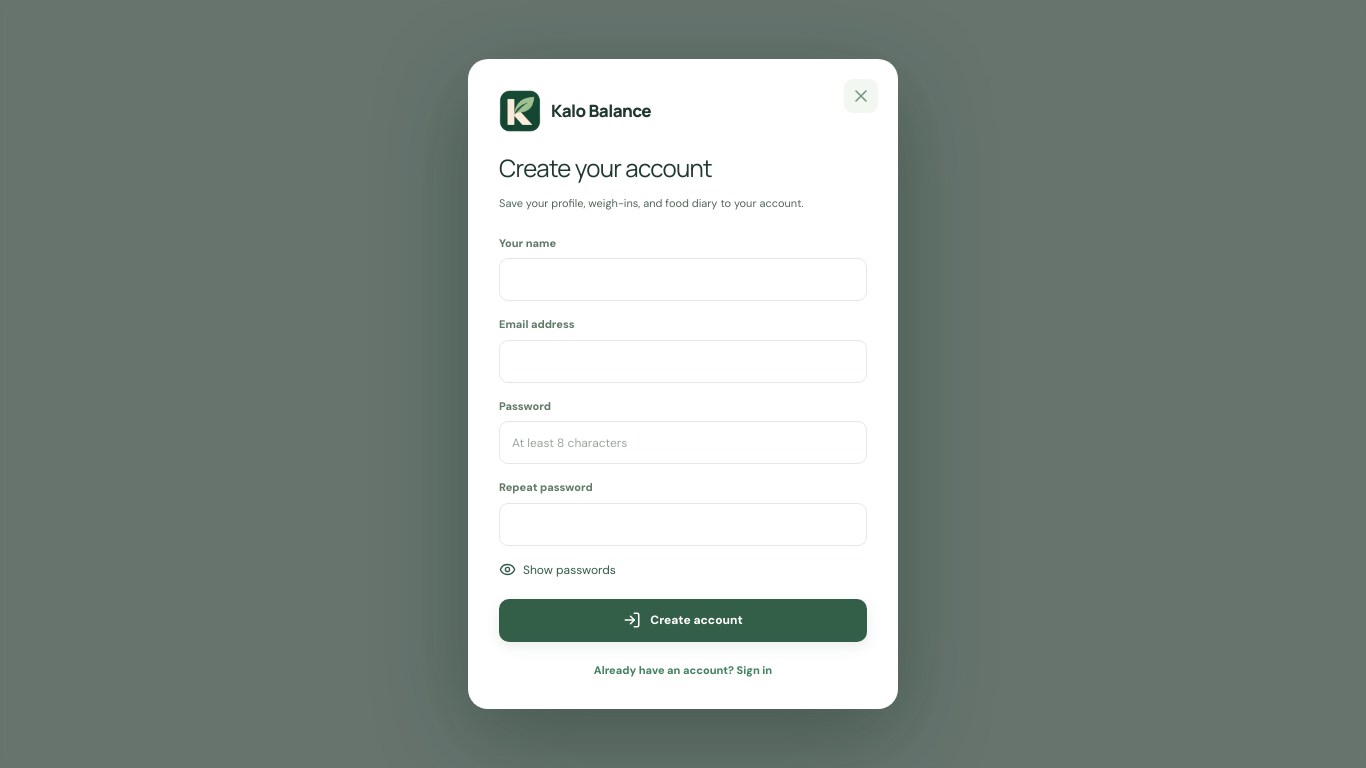
Existing authentication form › shows a translated mismatch and does not submit in en
This screenshot has width=1366, height=768.
Type "Test User" into the field labelled "Your name".
click(683, 280); type("Test User")  # box [499,258,867,301]
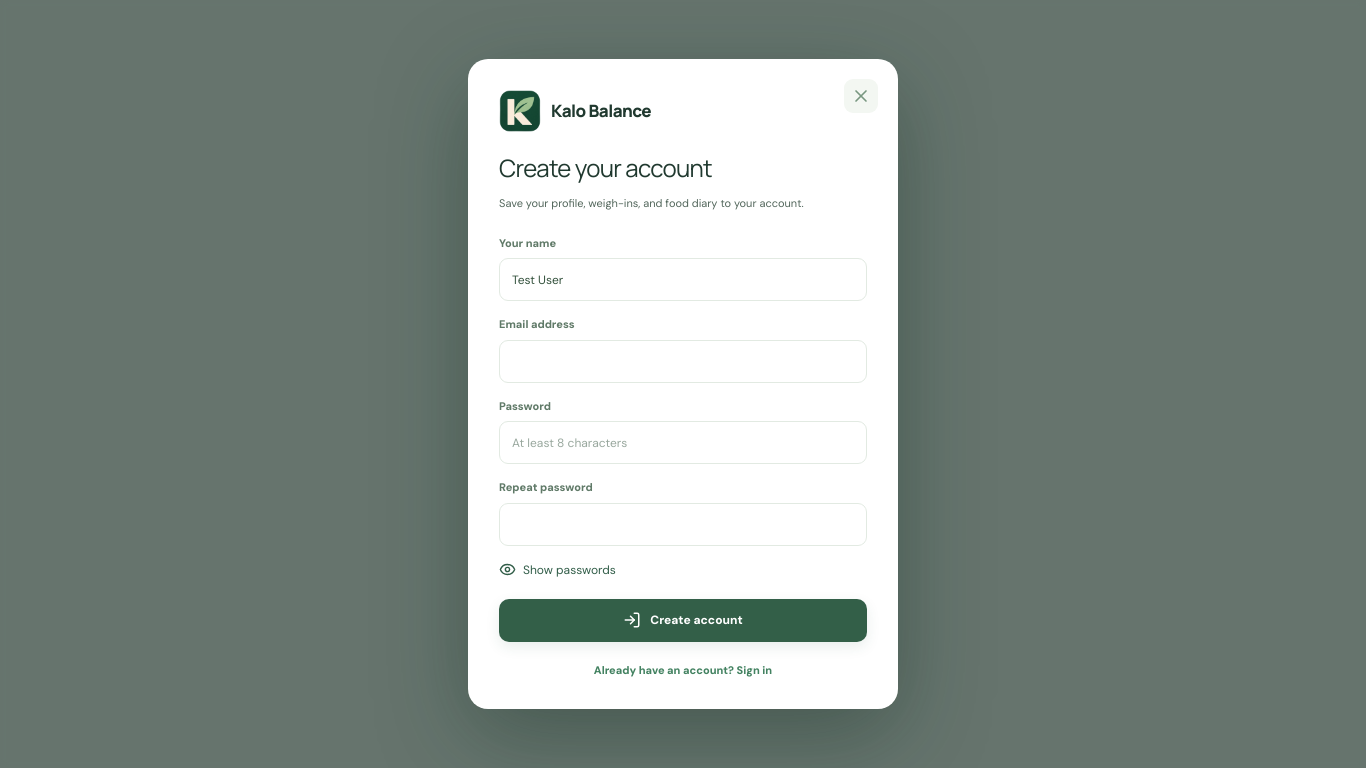
Type "user@example.test" into the field labelled "Email address".
click(683, 361); type("user@example.test")  # box [499,340,867,383]
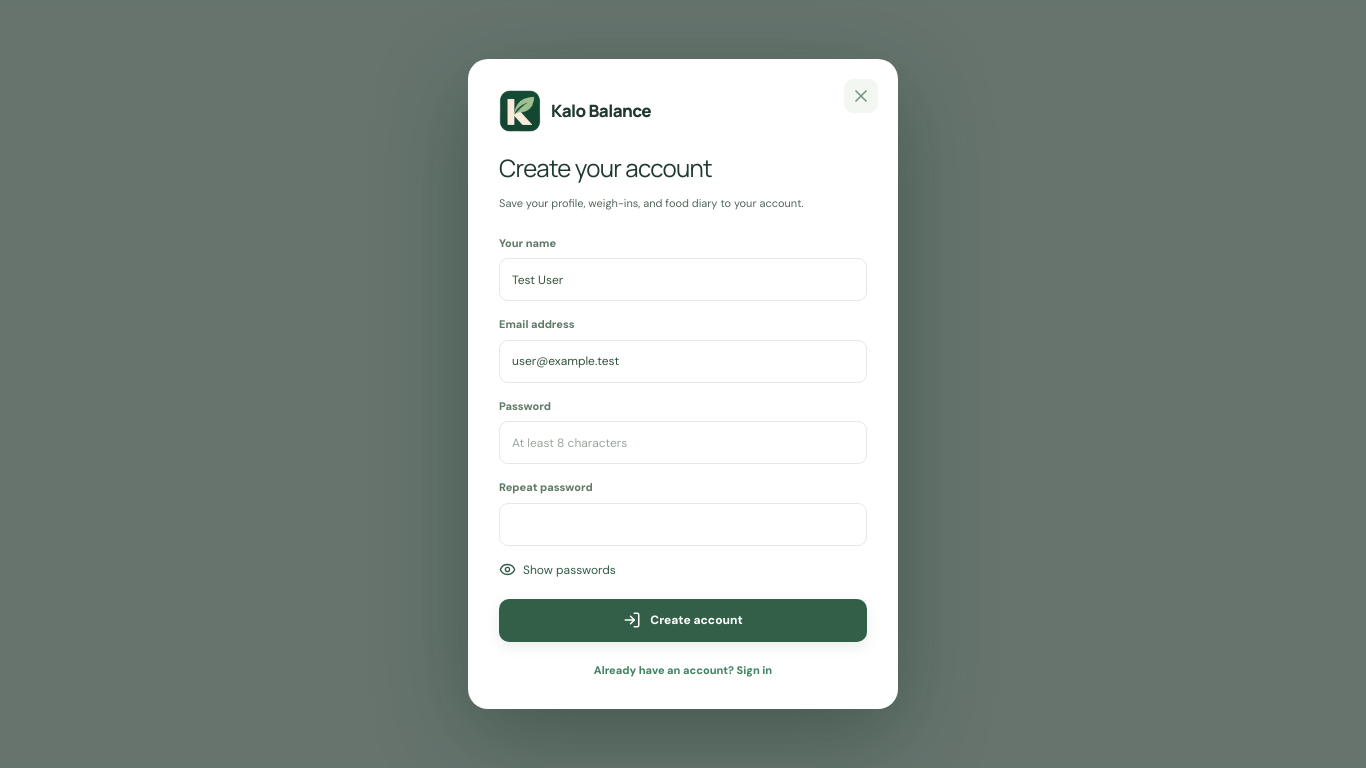
Type "Password123" into the password field labelled "Password".
click(683, 443); type("Password123")  # box [499,421,867,464]
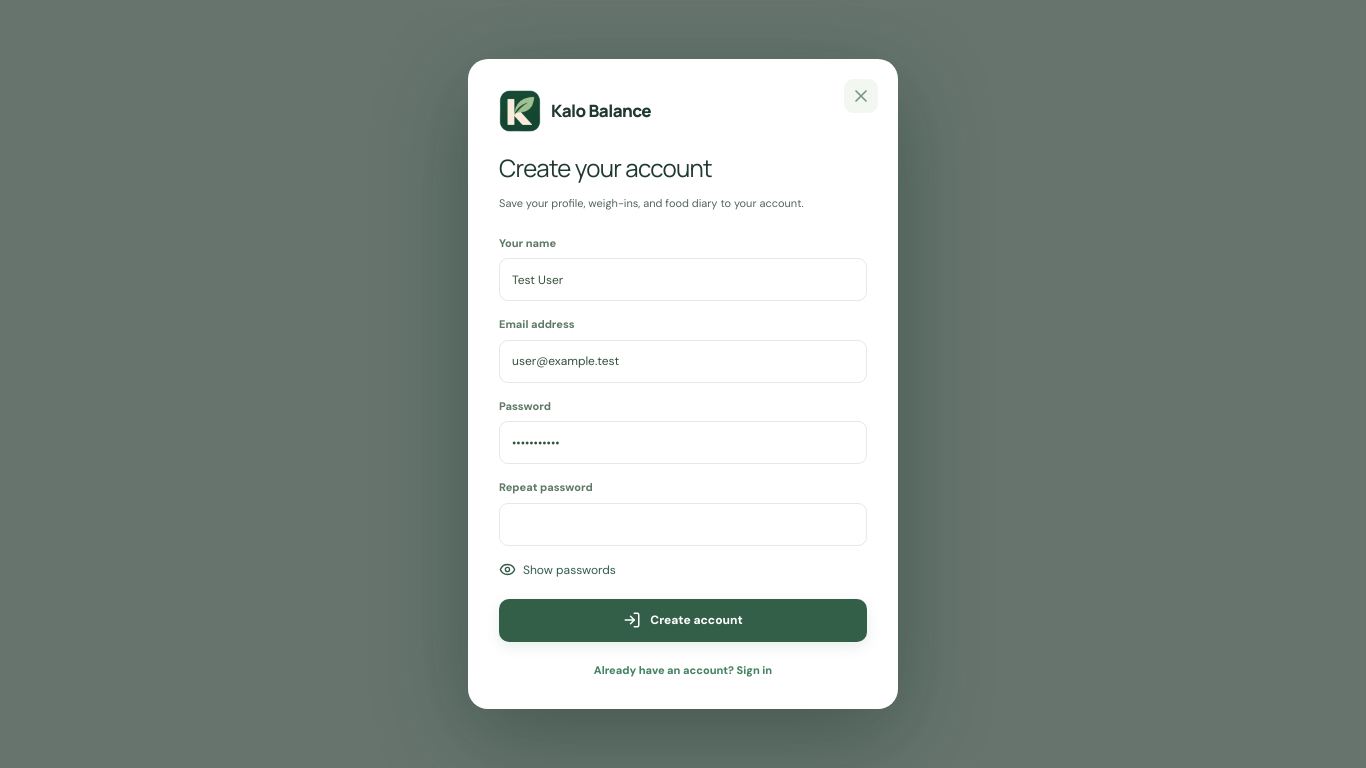
Type "Different123" into the password field labelled "Repeat password".
click(683, 524); type("Different123")  # box [499,503,867,546]
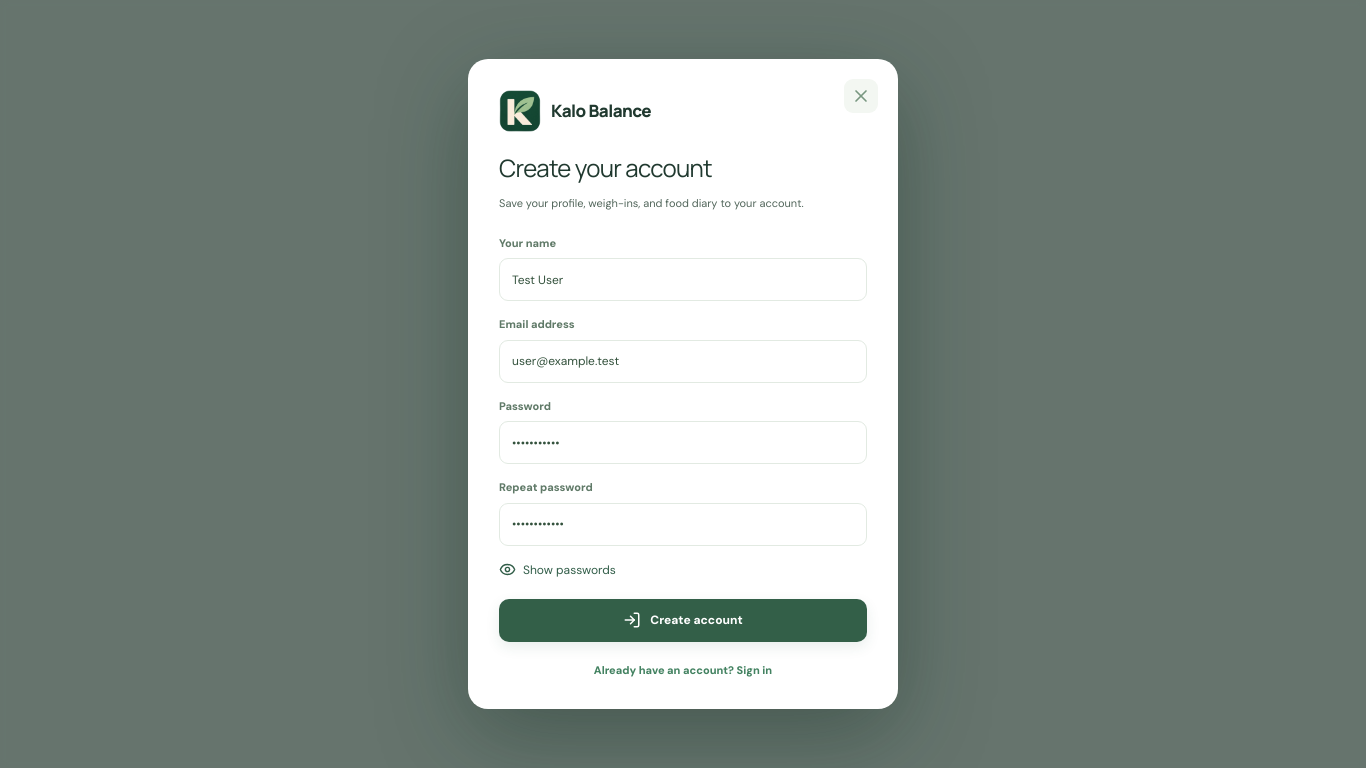
Click the button "Create account".
click(683, 620)  # box [499,599,867,642]
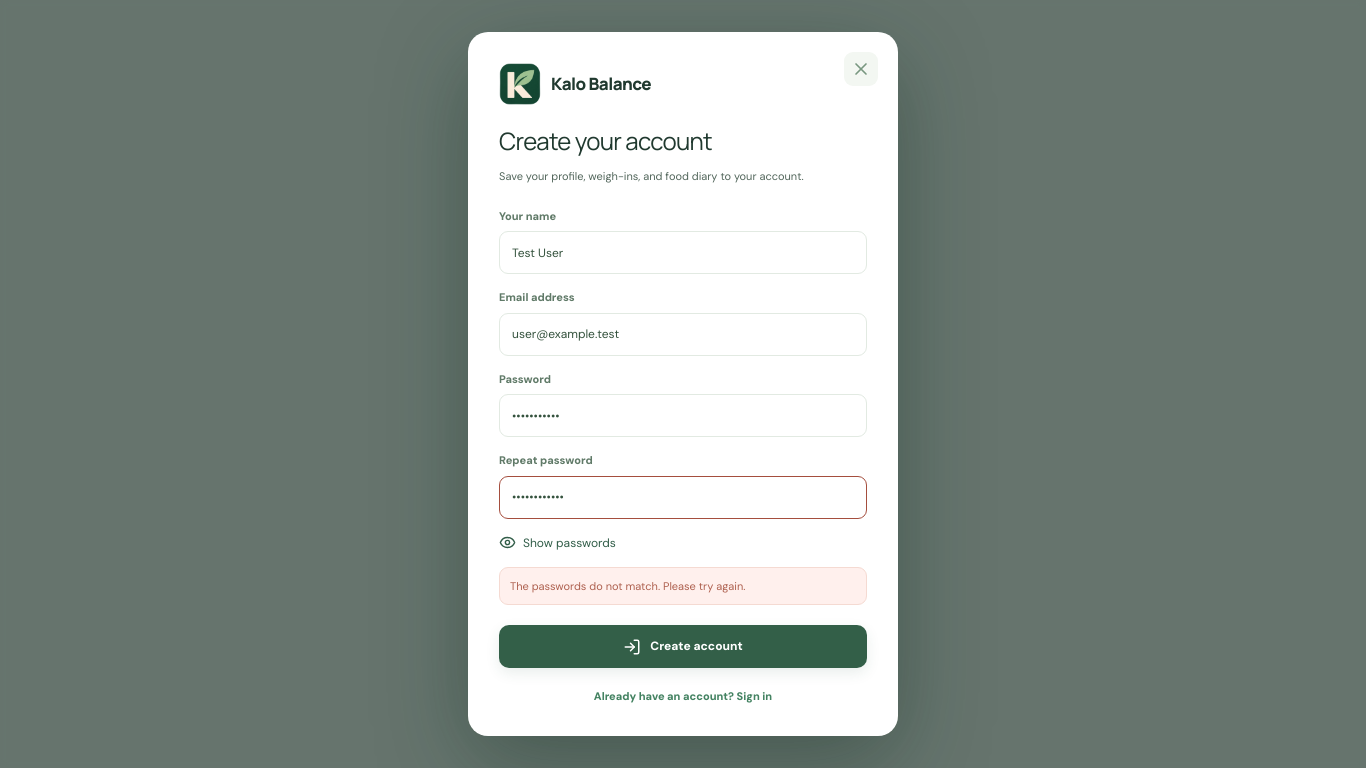
Result: the message reads "The passwords do not match. Please try again." at [510,579,745,593]
